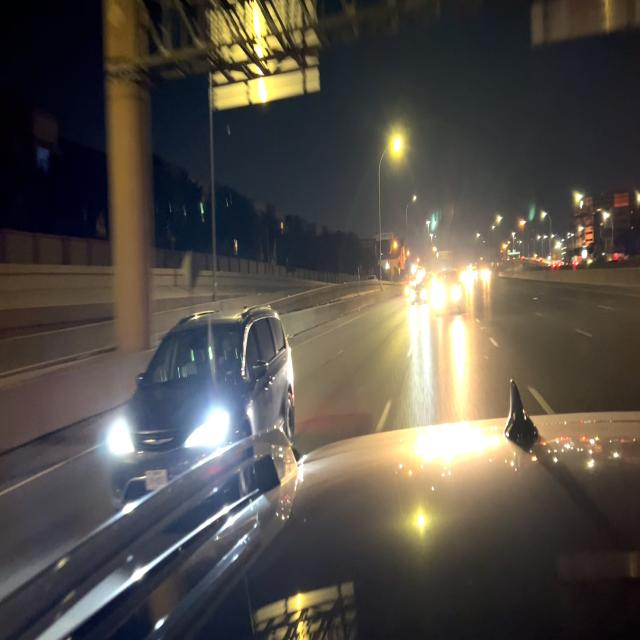back-of-sign: (204, 0, 321, 114)
